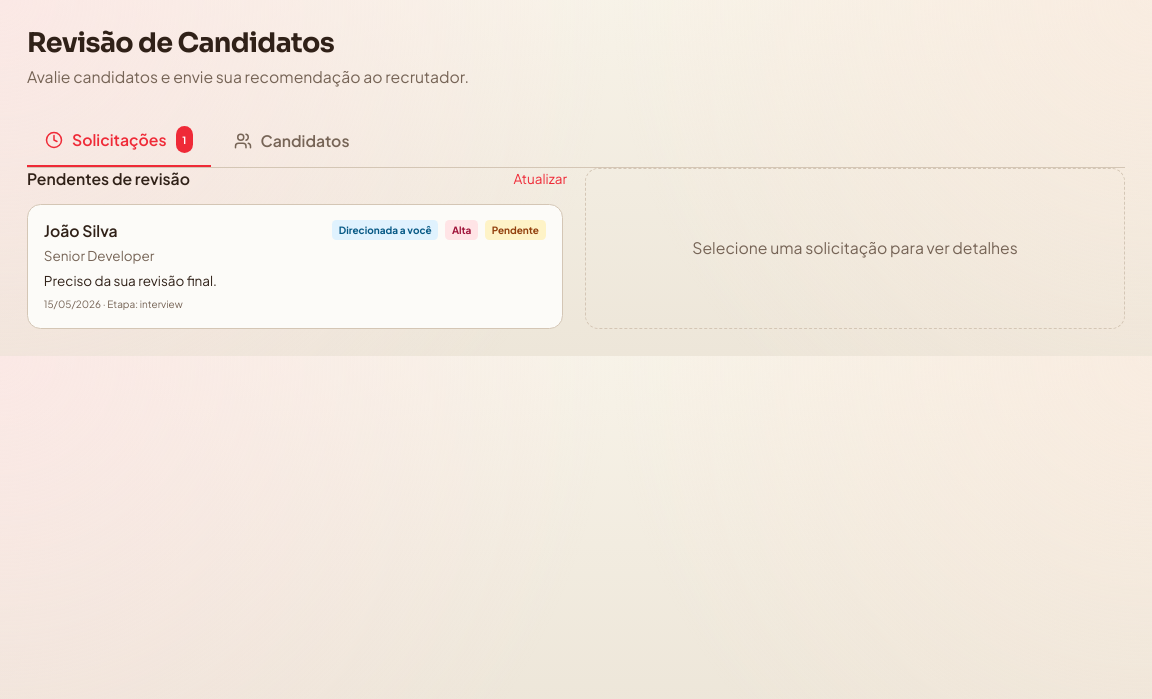
ManagerReviewPage › submete scorecard e exibe estado 'Avaliação enviada' com campos bloqueados
Click the button "João Silva" at (81, 231), box [27,204,562,328]
(page scrolled)
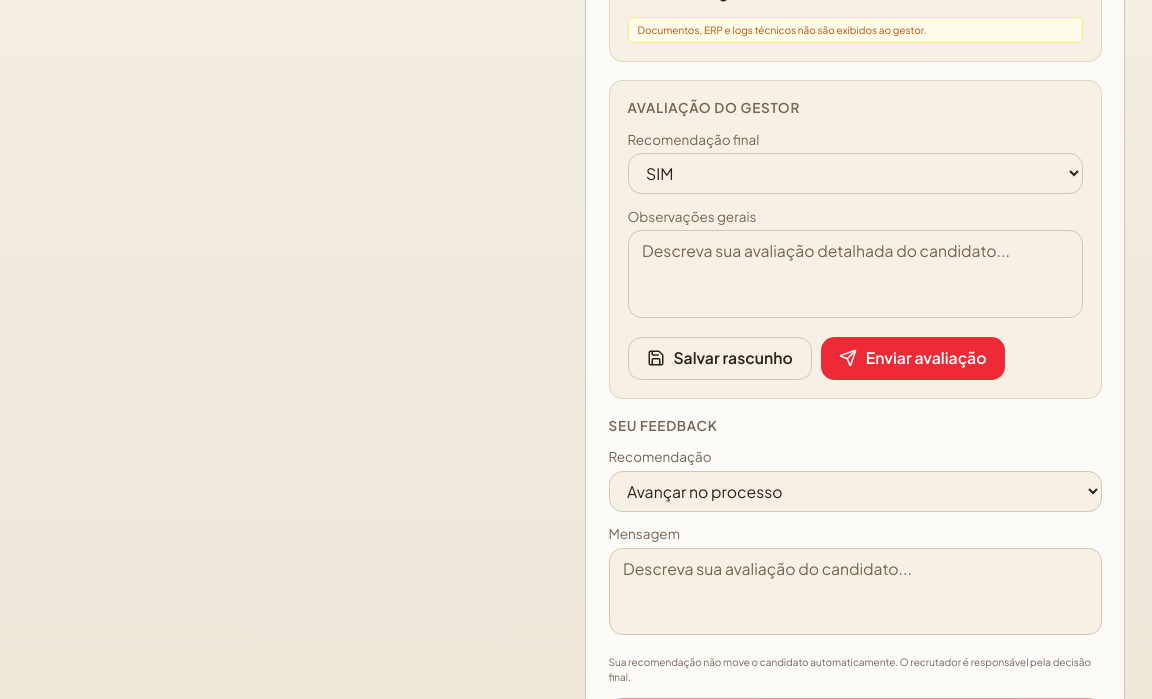
Check: the text "Avaliação do Gestor" is shown, box [628,99,800,116]
Click the button "Enviar avaliação" at (913, 358), box [821,337,1004,380]
(page scrolled)
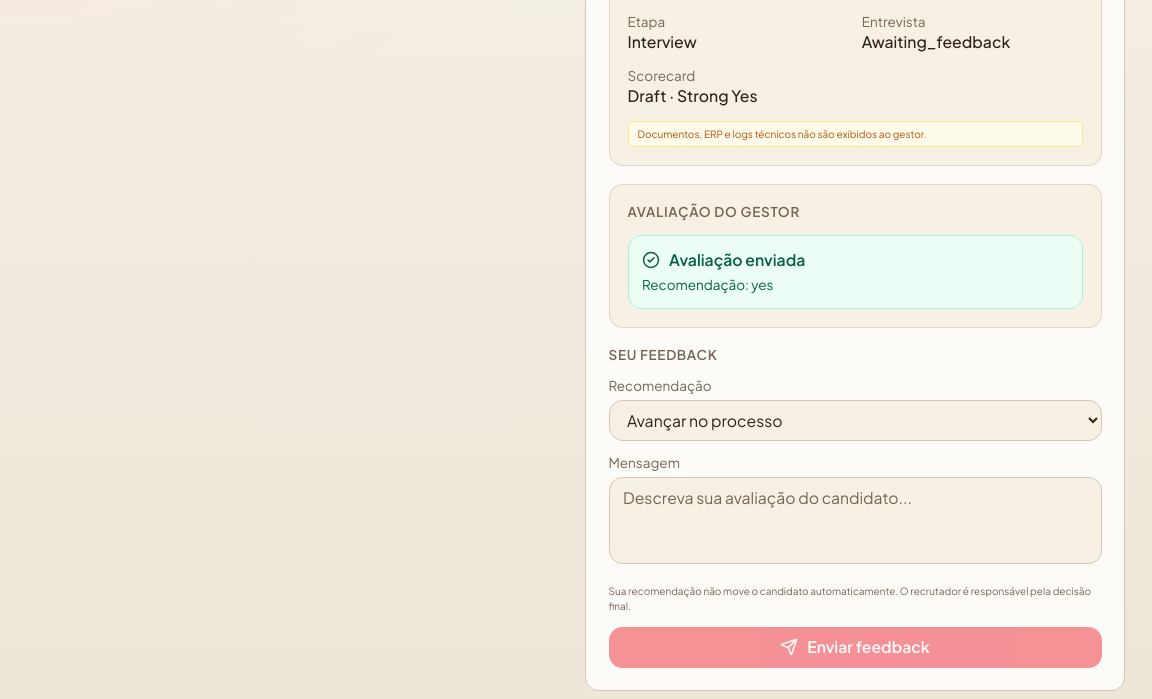
Check: the text "Avaliação enviada" is shown, box [642,250,805,269]
Check: the button "Salvar rascunho" is gone
Check: the button "Enviar avaliação" is gone
